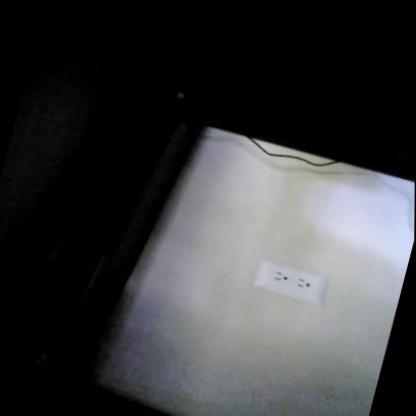OUTLET: (251, 258, 327, 304)
